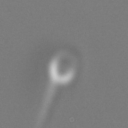normal: (33, 83, 64, 125)
